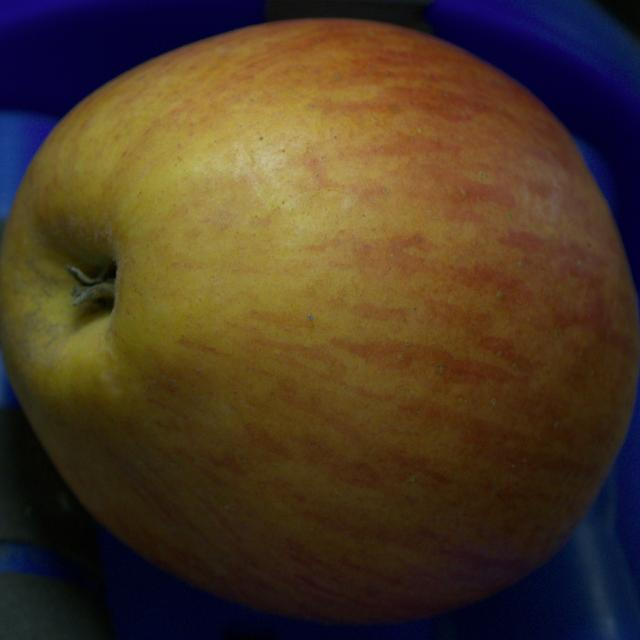apple: (0, 19, 639, 623)
